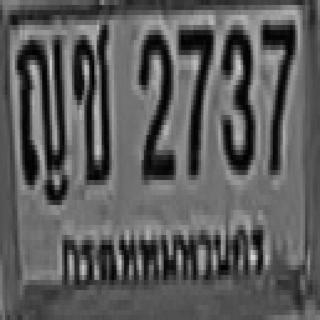A10: (72, 20, 113, 185)
A13: (15, 32, 70, 204)
N02: (138, 25, 176, 180)
N03: (221, 20, 256, 176)
N07: (177, 20, 214, 178), (260, 15, 296, 176)
P04: (55, 223, 272, 295)
